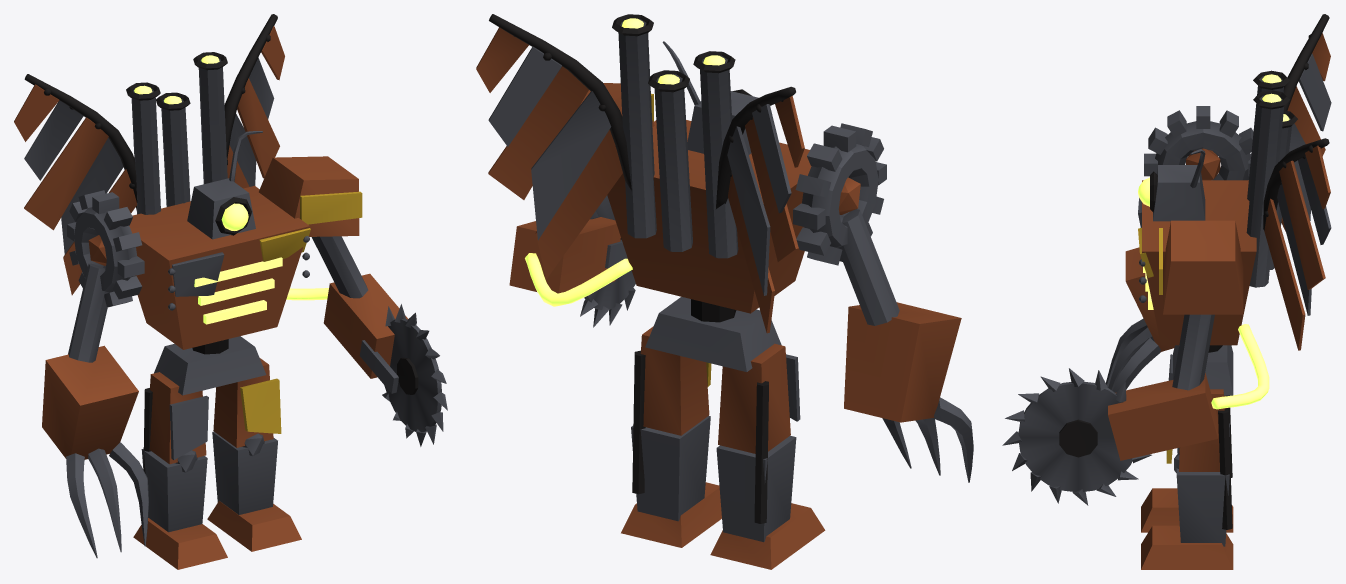
The model's file is rust_colossus.glb.
The picture shows the model from 3 angles, left to right: view 1: azimuth 30°, elevation 25°; view 2: azimuth 150°, elevation 25°; view 3: azimuth 270°, elevation 25°; orthographic projection. The views are drawn at different scales.
Visible parts, largest first — view 1: body, wing_L_a, wing_R_a, spin_x_saw; view 2: body, wing_R_a, wing_L_a, spin_x_saw; view 3: body, spin_x_saw, wing_R_a, wing_L_a.
Part boxes in pixels (left/top/right/bottom): body: left=42, top=52, right=407, bottom=569; wing_L_a: left=14, top=74, right=137, bottom=295; wing_R_a: left=224, top=14, right=284, bottom=188; spin_x_saw: left=382, top=304, right=447, bottom=446; body: left=509, top=14, right=973, bottom=569; wing_R_a: left=476, top=14, right=631, bottom=278; wing_L_a: left=716, top=86, right=804, bottom=333; spin_x_saw: left=580, top=195, right=635, bottom=327; body: left=1106, top=70, right=1297, bottom=569; spin_x_saw: left=1002, top=368, right=1151, bottom=505; wing_R_a: left=1263, top=138, right=1331, bottom=350; wing_L_a: left=1281, top=14, right=1331, bottom=231.
Size of the model in its own units: 2.01 by 2.54 by 1.64.
